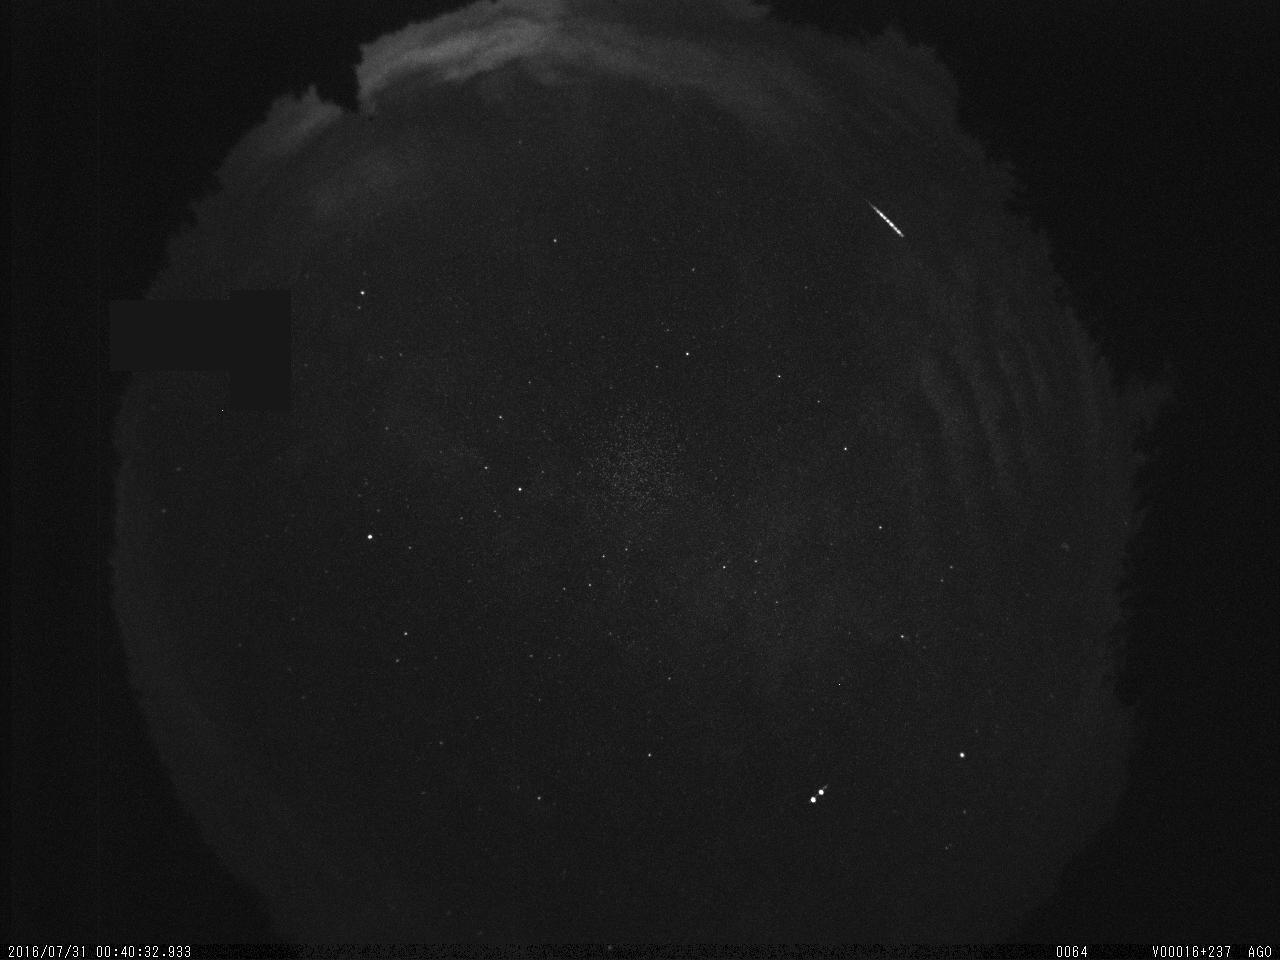meteor: (852, 193, 910, 247)
